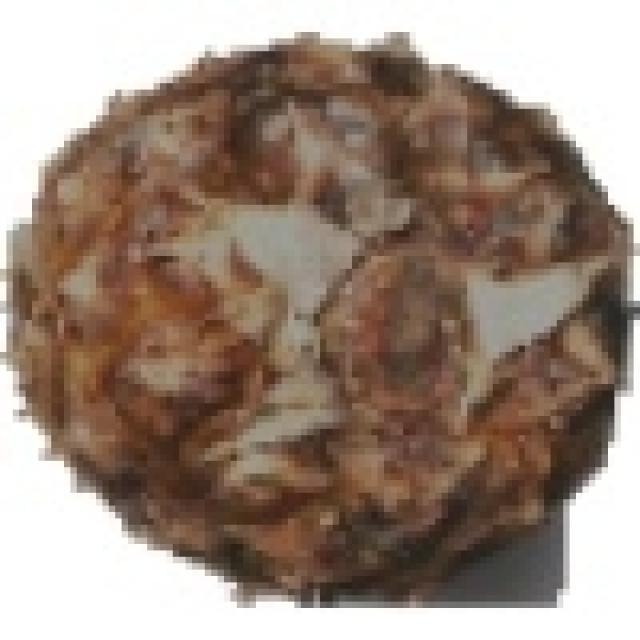pineapple: (6, 32, 614, 589), (474, 563, 544, 589)
